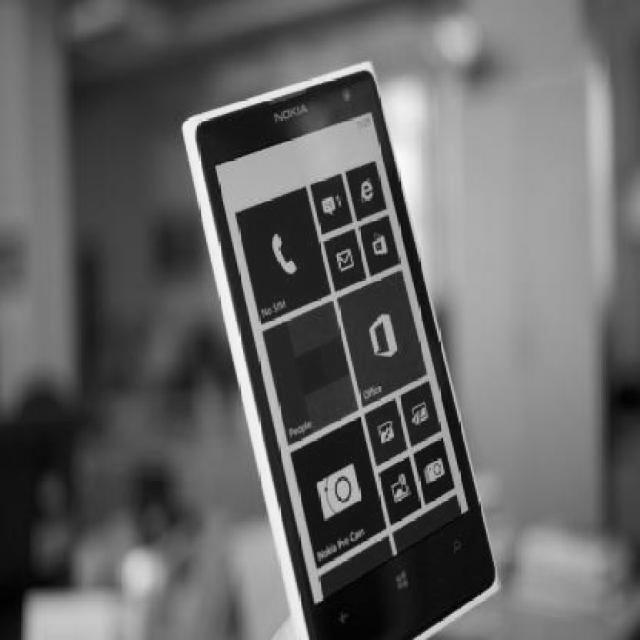fake: (190, 46, 506, 640)
